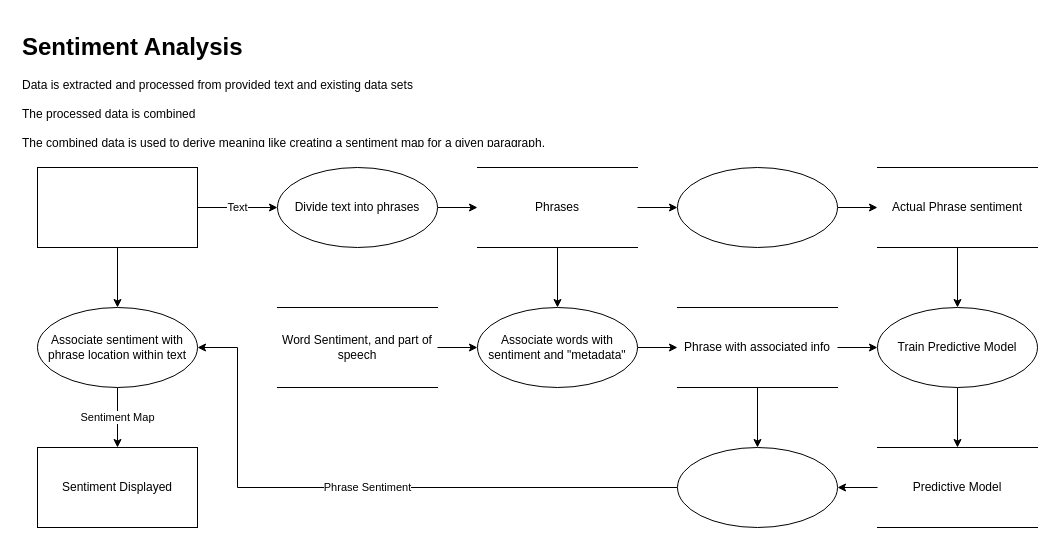
Some shapes in this 1055 by 545 pixel diagram are drawn without their labels. Here are the shapes that lost their labels. From the top down, the centre of each, then its label:
the point at 117,207: Text is written
the point at 757,207: Evaluate phrase (Human)
the point at 757,487: Apply Predictive Model
